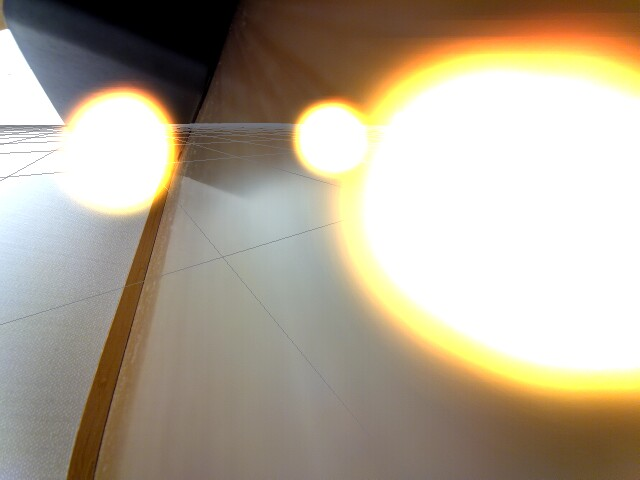firebig: (361, 3, 640, 410)
